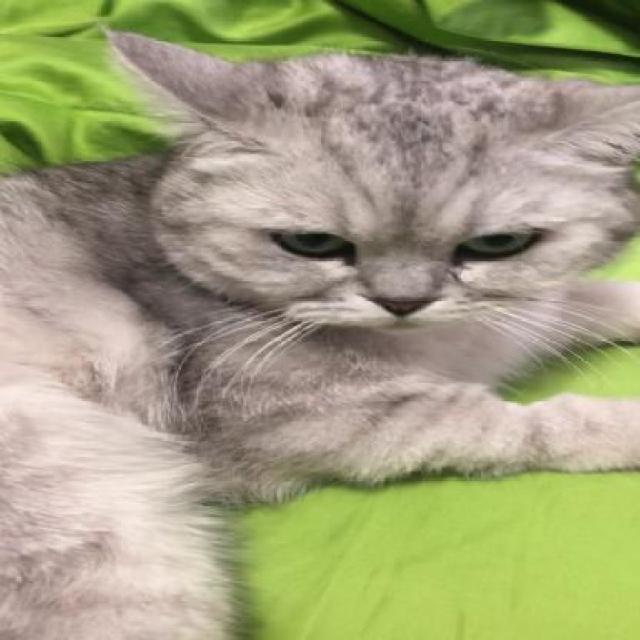cat-face: (107, 36, 639, 334)
